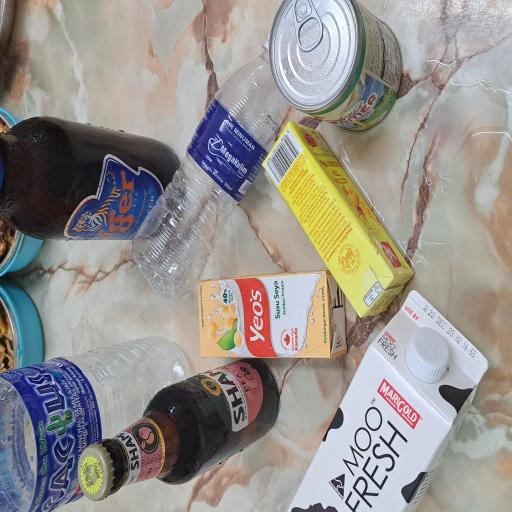can: (286, 359, 384, 512)
drink carton: (143, 351, 293, 512), (0, 380, 169, 512), (115, 266, 182, 458)
glass bottle: (7, 108, 120, 375), (203, 0, 298, 242)
plastic bottle: (161, 175, 354, 390), (0, 0, 135, 259)
pop tab: (350, 390, 384, 435)
